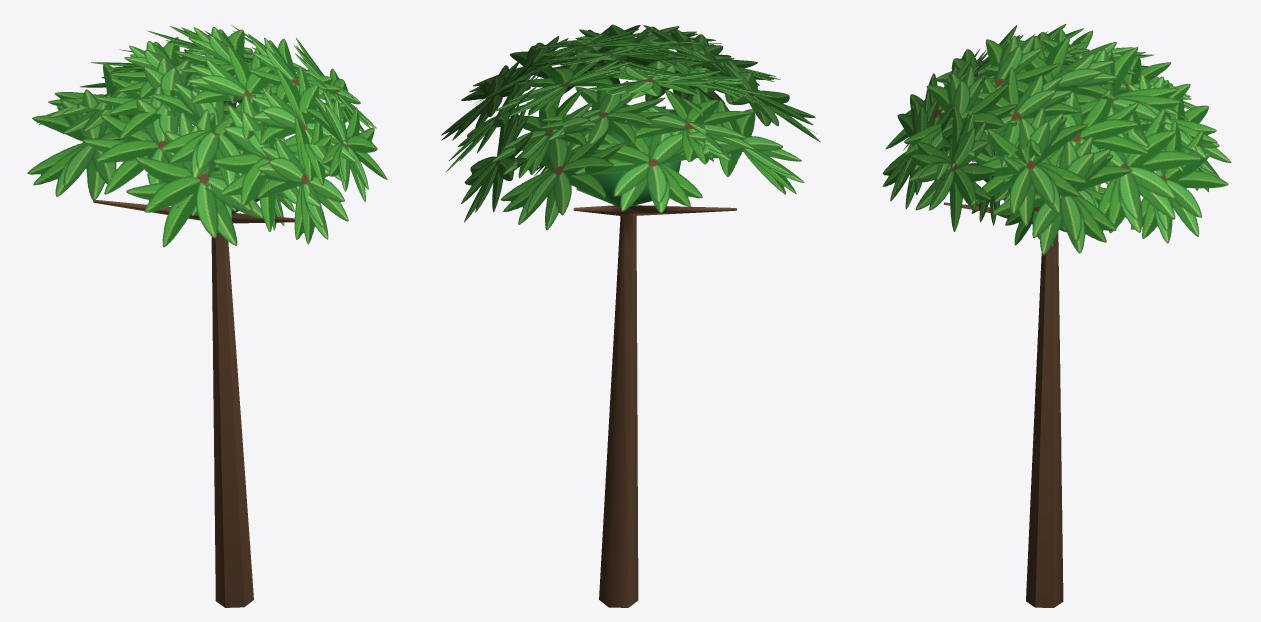
File: tree-vn-mango.glb
The picture shows the model from 3 angles, left to right: view 1: azimuth 30°, elevation 25°; view 2: azimuth 150°, elevation 25°; view 3: azimuth 270°, elevation 25°; orthographic projection. The views are drawn at different scales.
Parts seen in each view (by area): view 1: tree-vn-mango; view 2: tree-vn-mango; view 3: tree-vn-mango.
Boxes of the visible parts, x1,y1,x2,y2 form: tree-vn-mango: (27, 25, 387, 607); tree-vn-mango: (441, 24, 820, 607); tree-vn-mango: (882, 24, 1231, 607).
Size of the model in its own units: 5.39 by 8 by 4.97.
3 materials, 1 textured.
